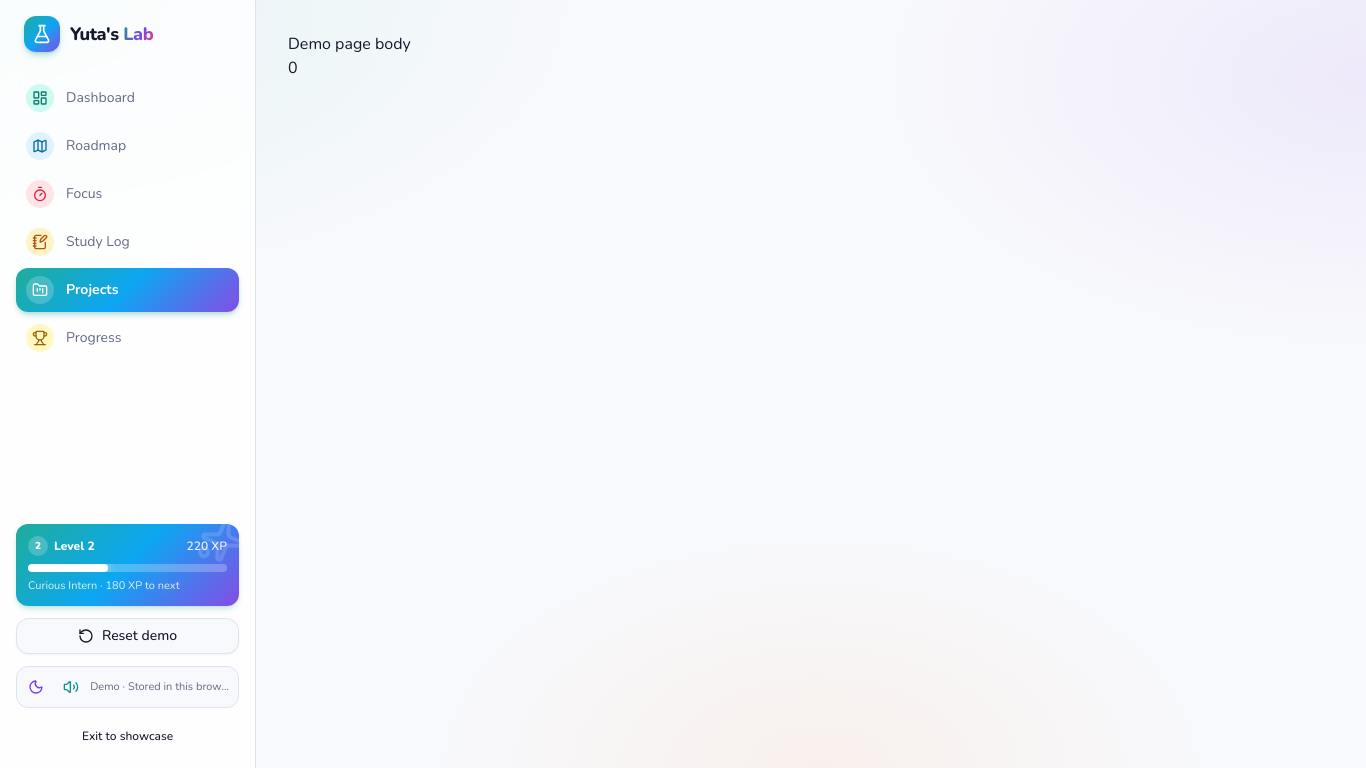
Scenario: LabShell › confirms reset before invoking the demo-local action
Click the button "Reset demo". click: [128, 636]
box: [16,618,239,654]
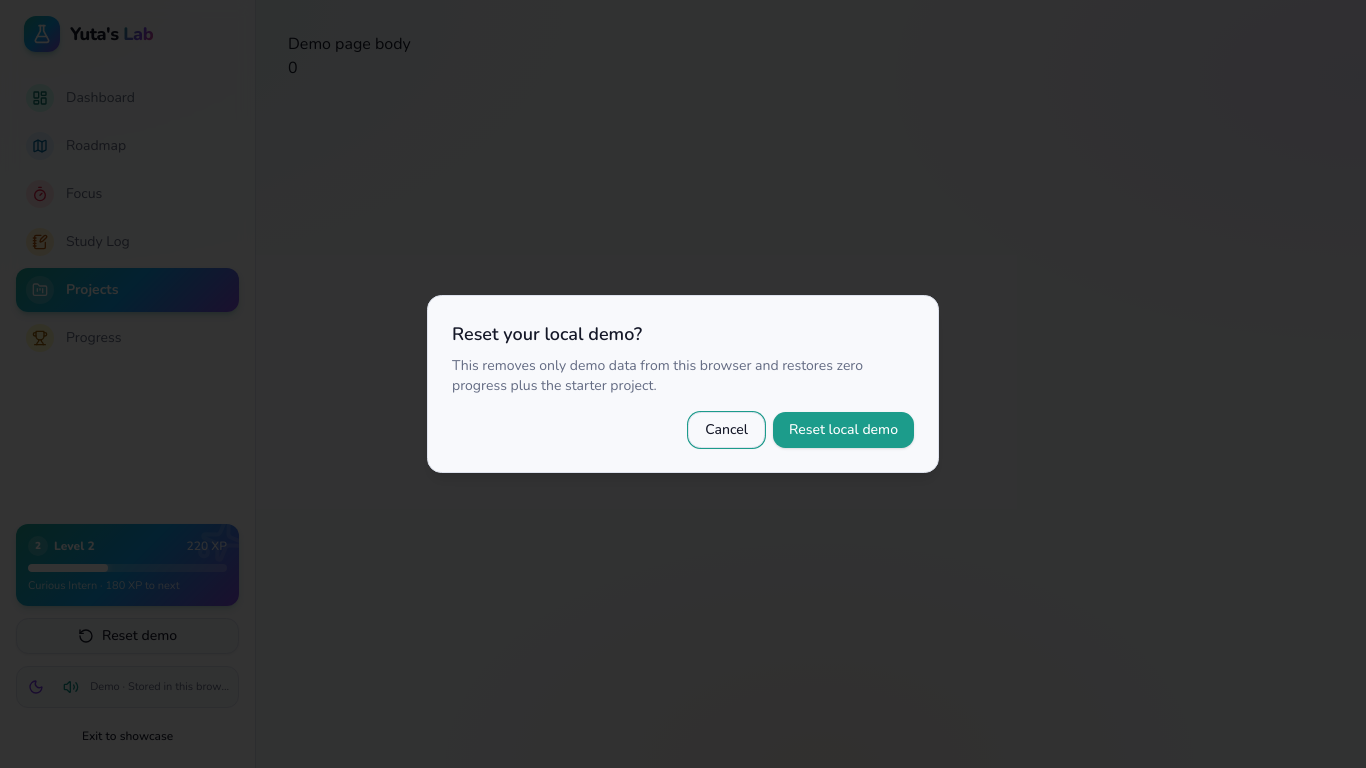
Expected: the text with test id "reset-count" reads "0", [288,57,298,79]
Result: the dialog shows "Reset your local demo?" at [452,322,642,346]
Click the button "Reset local demo". click: [844, 430]
box: [773,412,914,448]
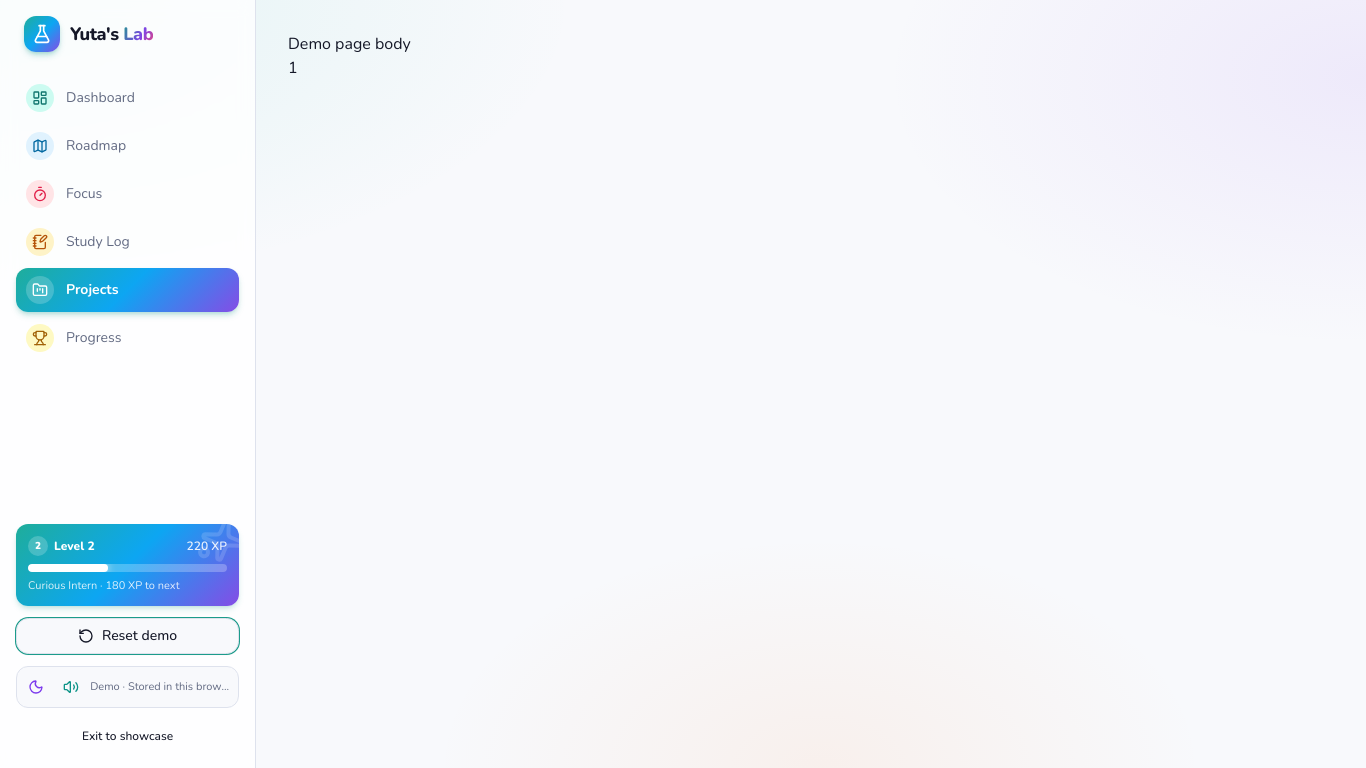
Result: the text with test id "reset-count" reads "1" at [288,57,298,79]
